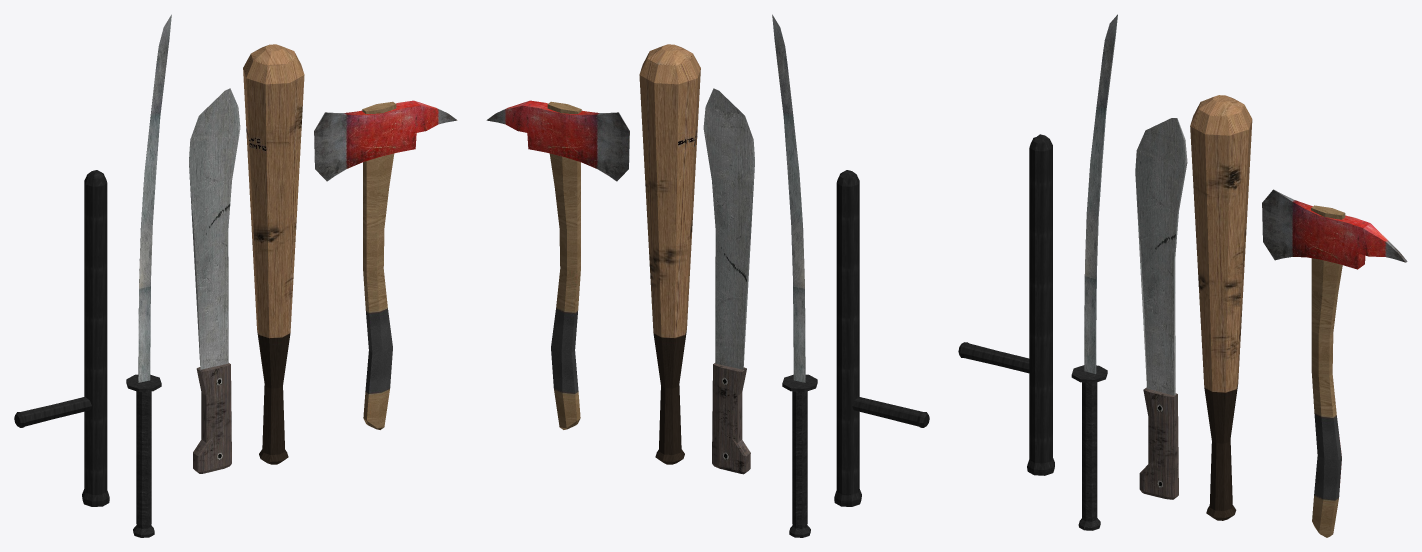
Rendered from PSX Melee Pack.fbx.
The picture shows the model from 3 angles, left to right: view 1: azimuth 30°, elevation 25°; view 2: azimuth 150°, elevation 25°; view 3: azimuth 330°, elevation 25°; orthographic projection.
Visible parts, largest first — view 1: Baseball Bat, Machete, Fire Axe, Police Baton, Katana; view 2: Baseball Bat, Machete, Fire Axe, Police Baton, Katana; view 3: Baseball Bat, Machete, Fire Axe, Police Baton, Katana.
Boxes of the visible parts, x1,y1,x2,y2 form: Baseball Bat: (243, 44, 304, 464); Machete: (189, 88, 240, 473); Fire Axe: (314, 100, 457, 429); Police Baton: (14, 170, 109, 506); Katana: (126, 14, 171, 537); Baseball Bat: (639, 44, 700, 464); Machete: (703, 88, 754, 474); Fire Axe: (486, 100, 629, 429); Police Baton: (834, 170, 929, 506); Katana: (772, 14, 817, 537); Baseball Bat: (1190, 95, 1252, 520); Machete: (1135, 118, 1187, 499); Fire Axe: (1262, 189, 1407, 537); Police Baton: (958, 134, 1054, 475); Katana: (1071, 14, 1117, 530).
Bounding box in the file's own units: 578 × 644 × 72.47.
5 materials, 5 textured.
